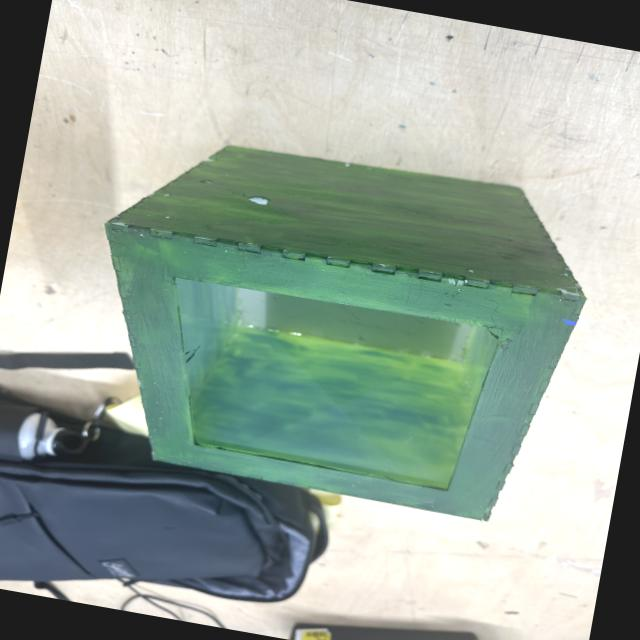green_bin: (66, 117, 605, 532)
